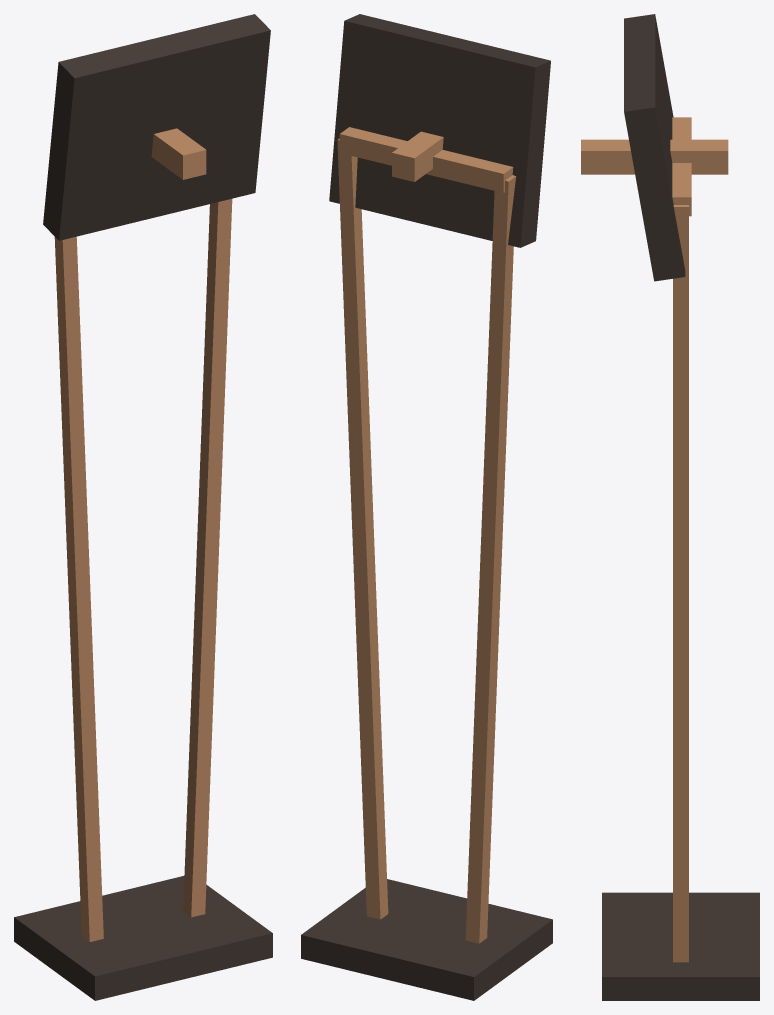
3 renders of one model, left to right at view 1: azimuth 30°, elevation 25°; view 2: azimuth 150°, elevation 25°; view 3: azimuth 270°, elevation 25°, orthographic. The views are drawn at different scales.
Parts seen in each view (by area): view 1: wing-shield, wing-base, wing-leg-right, wing-leg-left, wing-hinge; view 2: wing-shield, wing-base, wing-leg-right, wing-leg-left, wing-rail, wing-hinge; view 3: wing-base, wing-leg-right, wing-shield, wing-hinge, wing-rail.
Part boxes in pixels (box(x1,y1,x2,y2)): wing-shield: box(43, 14, 270, 240); wing-base: box(14, 876, 272, 1000); wing-leg-right: box(183, 199, 232, 917); wing-leg-left: box(54, 236, 103, 941); wing-hinge: box(151, 128, 206, 179); wing-shield: box(329, 14, 550, 247); wing-base: box(301, 879, 552, 1000); wing-leg-right: box(337, 138, 388, 919); wing-leg-left: box(465, 175, 516, 943); wing-rail: box(339, 127, 513, 192); wing-hinge: box(392, 131, 443, 181); wing-base: box(602, 892, 759, 1000); wing-leg-right: box(673, 205, 688, 962); wing-shield: box(624, 14, 685, 281); wing-hinge: box(581, 139, 728, 174); wing-rail: box(672, 117, 691, 216).
Size of the model in its own units: 0.42 by 1.88 by 0.34.
